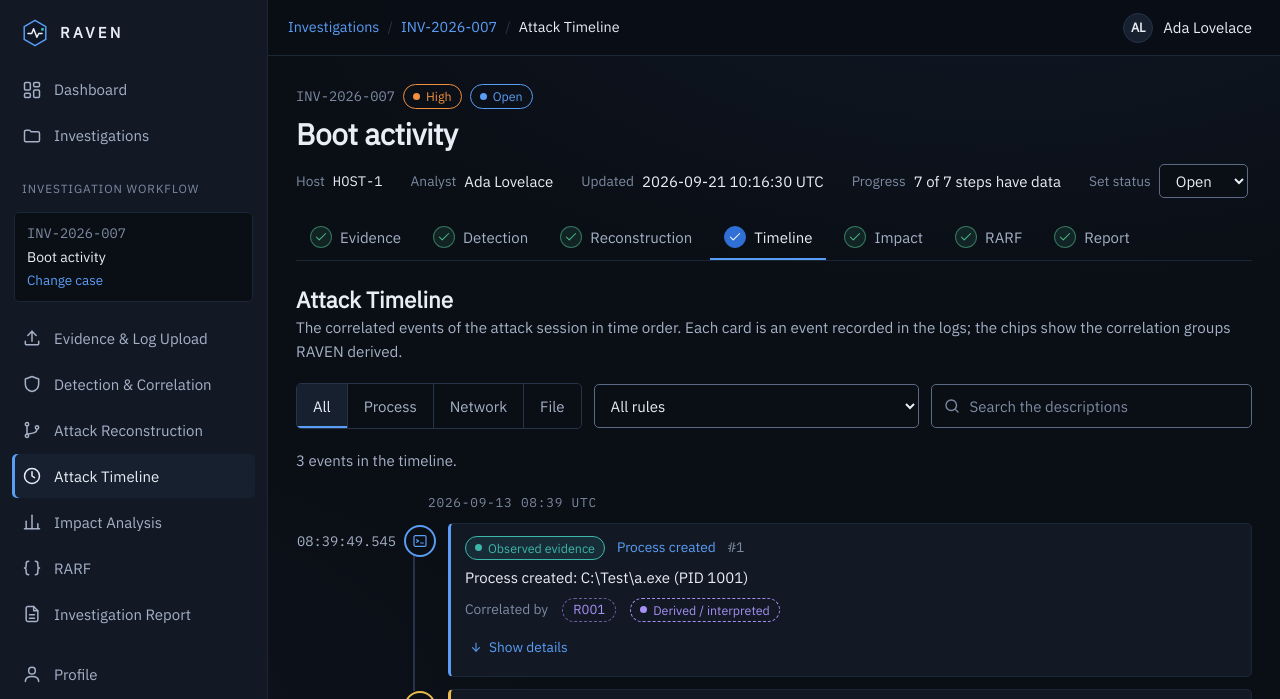
Test: the signed-in frame › keeps the last opened case in the sidebar on other pages
This screenshot has width=1280, height=699.
Expected: the heading "Boot activity" is shown, top-left (296, 115), bottom-right (458, 153)
Click the link "Dashboard": point(75, 90) top-left (22, 80), bottom-right (127, 100)
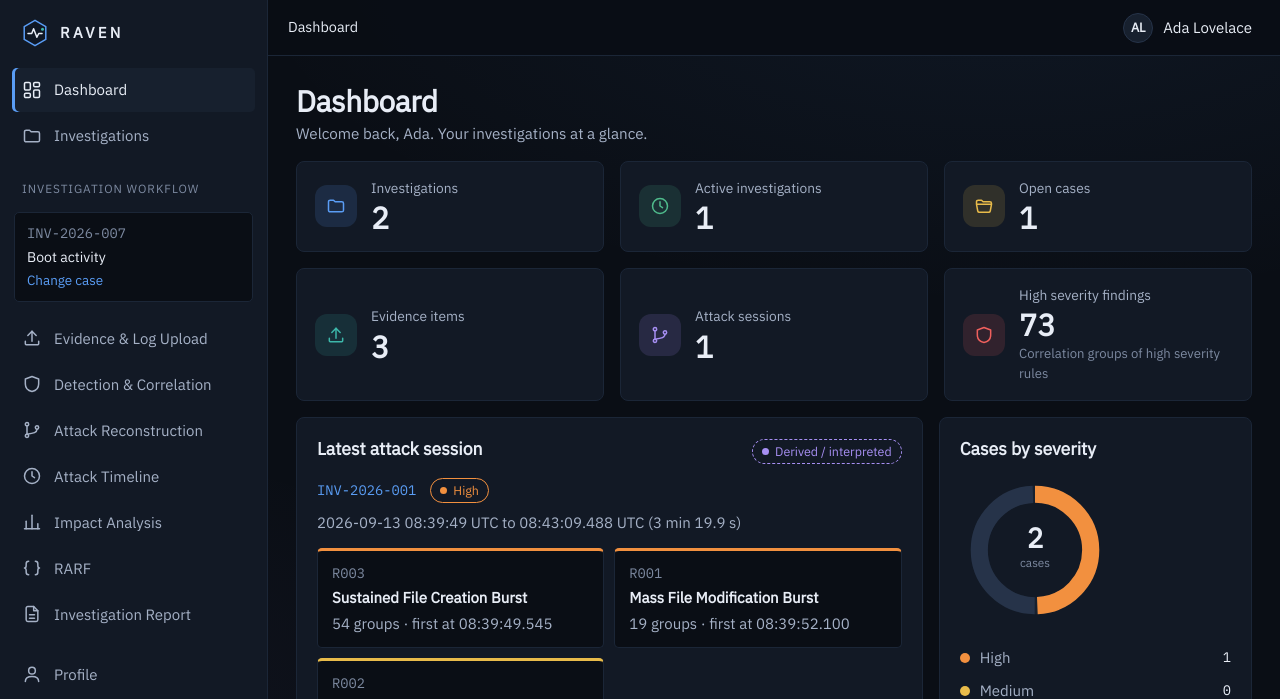
Expected: the text "INV-2026-007" is shown, top-left (27, 224), bottom-right (126, 242)
Expected: the heading "Dashboard" is shown, top-left (296, 82), bottom-right (438, 120)
